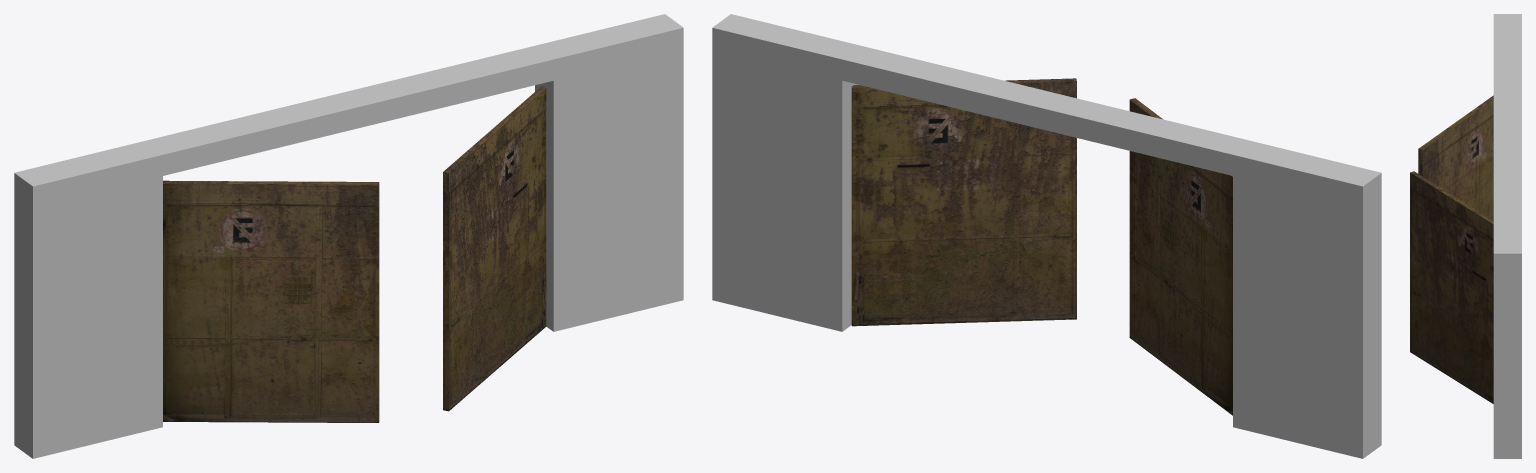
Rendered from metal_gate_open.obj.
3 renders of one model, left to right at view 1: azimuth 30°, elevation 25°; view 2: azimuth 150°, elevation 25°; view 3: azimuth 270°, elevation 25°, orthographic. The views are drawn at different scales.
Visible parts, largest first — view 1: polySurface8; view 2: polySurface8; view 3: polySurface8.
Part boxes in pixels (<box>): polySurface8: <box>14,14,683,458</box>; polySurface8: <box>712,14,1381,458</box>; polySurface8: <box>1410,14,1521,458</box>.
Bounding box in the file's own units: 20 × 8 × 3.94.
